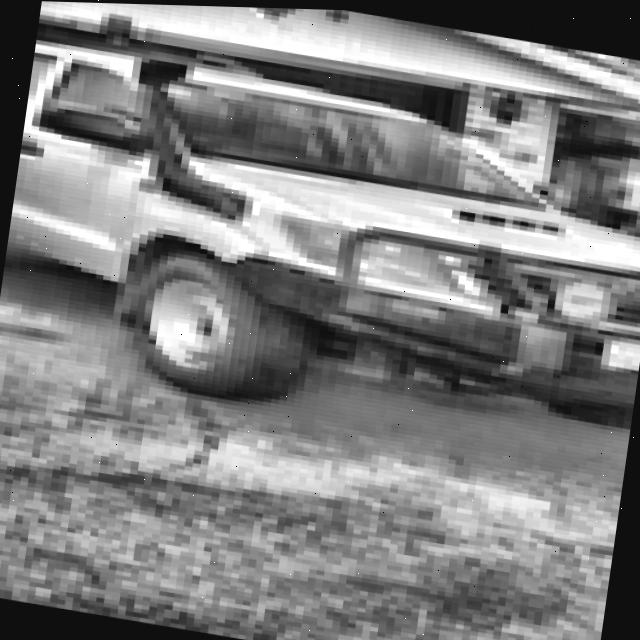light_vehicle: (0, 1, 640, 464)
